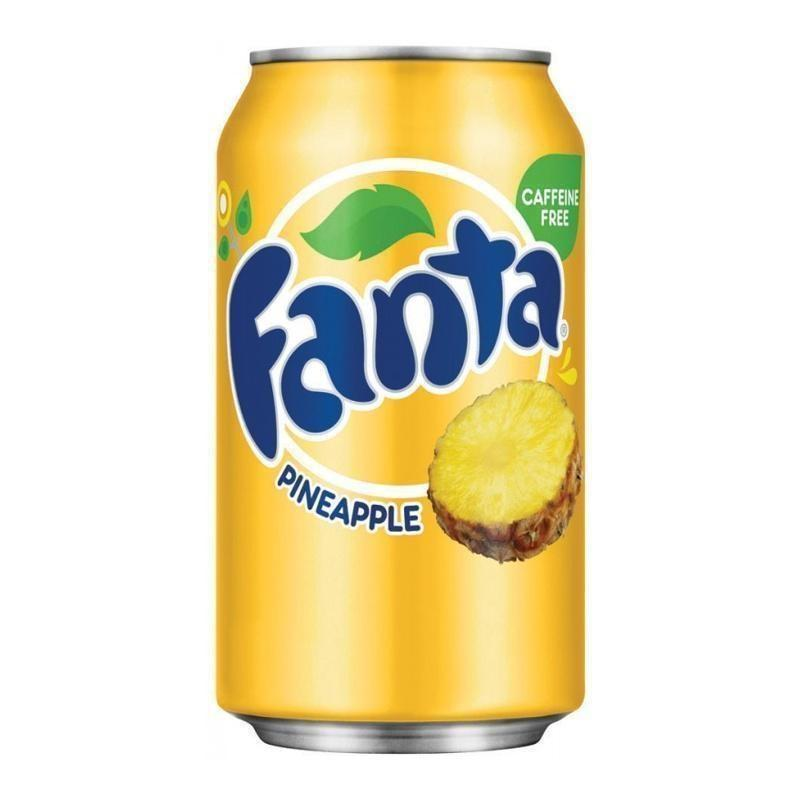tin can: (210, 31, 585, 763)
